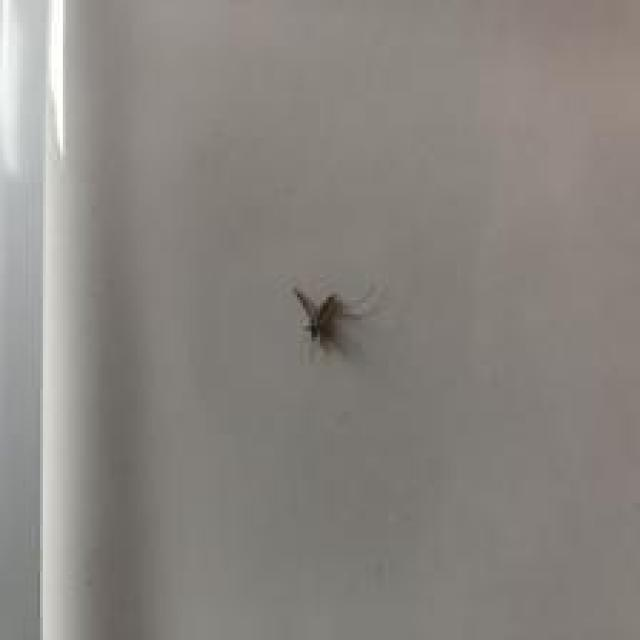Culex: (292, 282, 377, 358)
